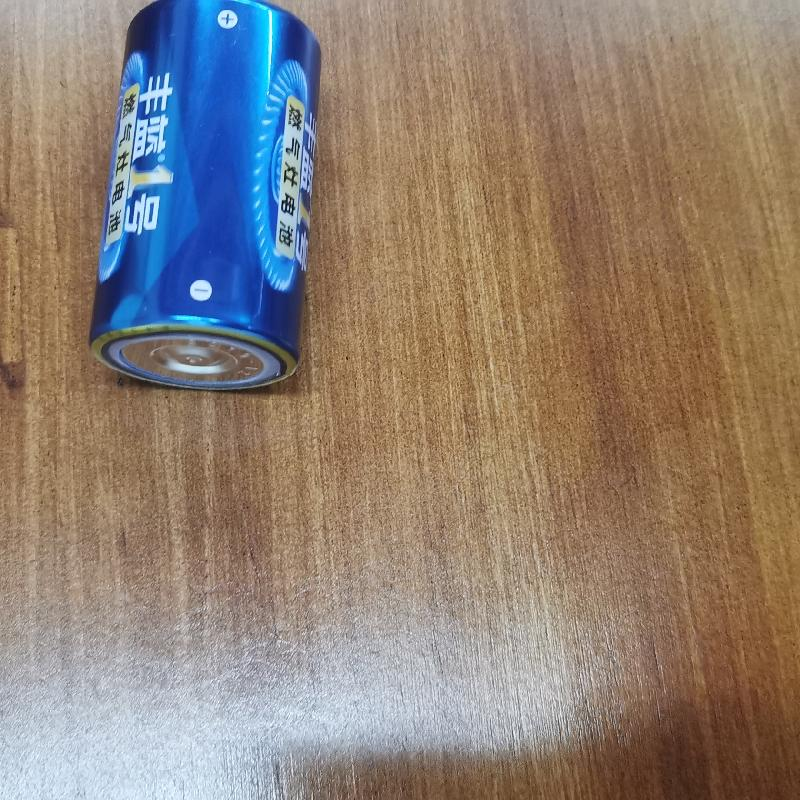battery: (86, 0, 316, 395)
